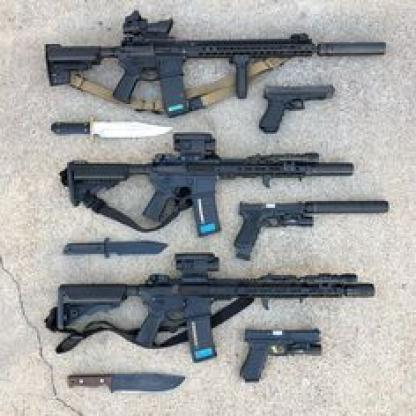Gun: (44, 7, 387, 119), (44, 250, 376, 363), (57, 130, 356, 238)
Knife: (66, 370, 188, 396), (61, 236, 169, 259), (49, 119, 173, 139)
Pistol: (233, 198, 390, 262), (240, 325, 324, 384), (259, 80, 335, 133)
